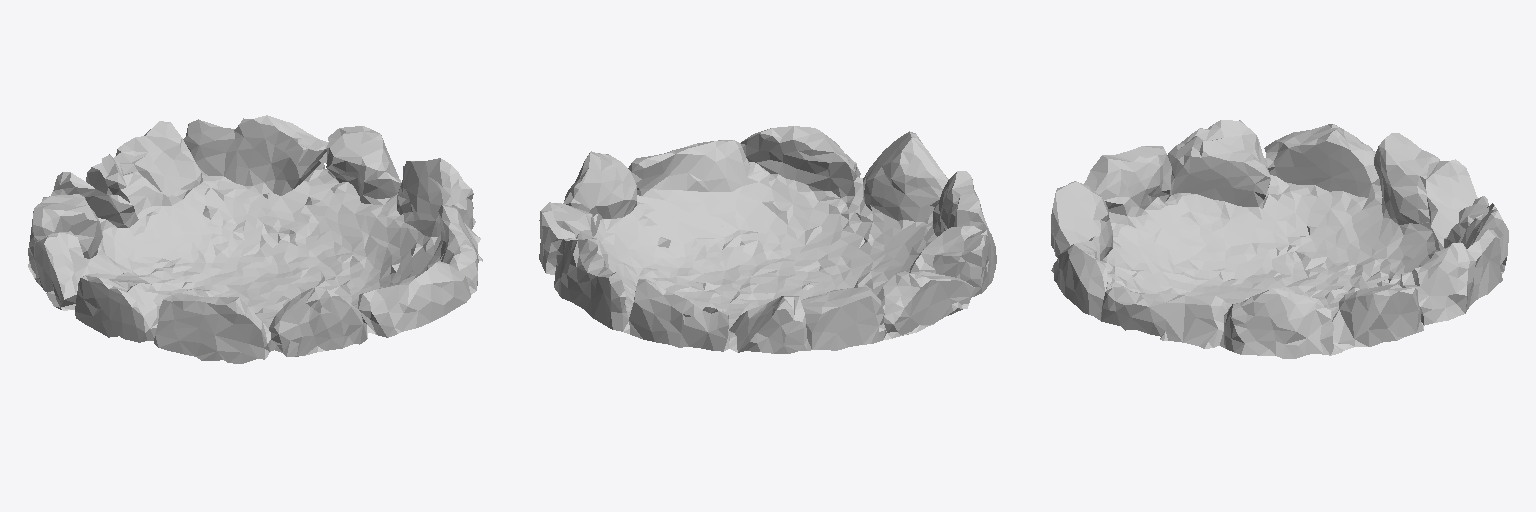
File: stone_fire_pit_4k.obj
The picture shows the model from 3 angles: view 1: azimuth 30°, elevation 25°; view 2: azimuth 150°, elevation 25°; view 3: azimuth 270°, elevation 25°; orthographic projection.
Parts seen in each view (by area): view 1: stone_fire_pit; view 2: stone_fire_pit; view 3: stone_fire_pit.
Boxes of the visible parts, <box> form: stone_fire_pit: <box>28,115,482,363</box>; stone_fire_pit: <box>539,126,996,353</box>; stone_fire_pit: <box>1051,120,1508,358</box>.
Size of the model in its own units: 1.45 by 0.3883 by 1.43.